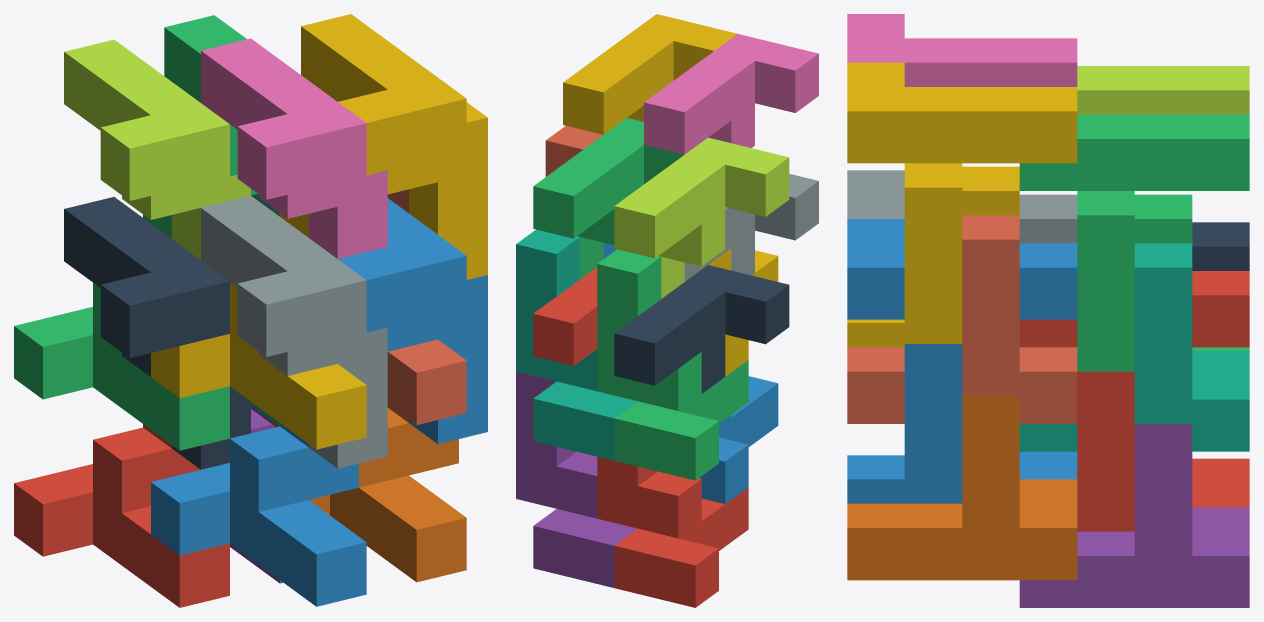
File: tiling.obj
3 renders of one model, left to right at view 1: azimuth 30°, elevation 25°; view 2: azimuth 150°, elevation 25°; view 3: azimuth 270°, elevation 25°, orthographic. The views are drawn at different scales.
Parts seen in each view (by area): view 1: copy_2_domain_8, copy_2_domain_4, copy_2_domain_2, copy_1_domain_2, copy_2_domain_3, copy_2_domain_1, copy_1_domain_1, copy_2_domain_6, copy_1_domain_3, copy_1_domain_6, copy_1_domain_4, copy_1_domain_8 (+1 smaller); view 2: copy_1_domain_3, copy_1_domain_1, copy_2_domain_3, copy_2_domain_1, copy_2_domain_4, copy_1_domain_7, copy_1_domain_5, copy_2_domain_7, copy_2_domain_8, copy_1_domain_2, copy_2_domain_2, copy_2_domain_5 (+2 smaller); view 3: copy_2_domain_8, copy_1_domain_6, copy_2_domain_7, copy_1_domain_5, copy_2_domain_6, copy_1_domain_8, copy_1_domain_7, copy_2_domain_5, copy_2_domain_4, copy_2_domain_3, copy_2_domain_2, copy_1_domain_2 (+4 smaller).
Part boxes in pixels (left/top/right/bottom): copy_2_domain_8: left=301, top=14, right=487, bottom=279; copy_2_domain_4: left=201, top=38, right=387, bottom=258; copy_2_domain_2: left=201, top=195, right=387, bottom=468; copy_1_domain_2: left=151, top=423, right=366, bottom=606; copy_2_domain_3: left=64, top=39, right=250, bottom=259; copy_2_domain_1: left=64, top=197, right=250, bottom=469; copy_1_domain_1: left=14, top=424, right=229, bottom=607; copy_2_domain_6: left=338, top=198, right=487, bottom=443; copy_1_domain_3: left=14, top=214, right=229, bottom=450; copy_1_domain_6: left=309, top=404, right=466, bottom=582; copy_1_domain_4: left=151, top=213, right=366, bottom=449; copy_1_domain_8: left=387, top=189, right=466, bottom=424; copy_1_domain_3: left=597, top=249, right=748, bottom=480; copy_1_domain_1: left=597, top=456, right=748, bottom=607; copy_2_domain_3: left=614, top=137, right=789, bottom=298; copy_2_domain_1: left=614, top=265, right=789, bottom=393; copy_2_domain_4: left=644, top=34, right=818, bottom=154; copy_1_domain_7: left=516, top=229, right=637, bottom=460; copy_1_domain_5: left=516, top=371, right=637, bottom=587; copy_2_domain_7: left=533, top=118, right=683, bottom=278; copy_2_domain_8: left=563, top=14, right=737, bottom=134; copy_1_domain_2: left=699, top=376, right=778, bottom=503; copy_2_domain_2: left=684, top=174, right=818, bottom=281; copy_2_domain_5: left=533, top=267, right=597, bottom=365; copy_2_domain_8: left=847, top=62, right=1077, bottom=343; copy_1_domain_6: left=847, top=396, right=1077, bottom=580; copy_2_domain_7: left=1019, top=114, right=1249, bottom=371; copy_1_domain_5: left=1019, top=424, right=1249, bottom=607; copy_2_domain_6: left=847, top=219, right=1077, bottom=500; copy_1_domain_8: left=847, top=215, right=1077, bottom=423; copy_1_domain_7: left=1019, top=243, right=1249, bottom=451; copy_2_domain_5: left=1019, top=271, right=1249, bottom=527; copy_2_domain_4: left=847, top=14, right=1077, bottom=86; copy_2_domain_3: left=1077, top=66, right=1249, bottom=114; copy_2_domain_2: left=847, top=170, right=1077, bottom=243; copy_1_domain_2: left=847, top=451, right=1077, bottom=503.
Size of the model in its own units: 6 by 10 by 7.
